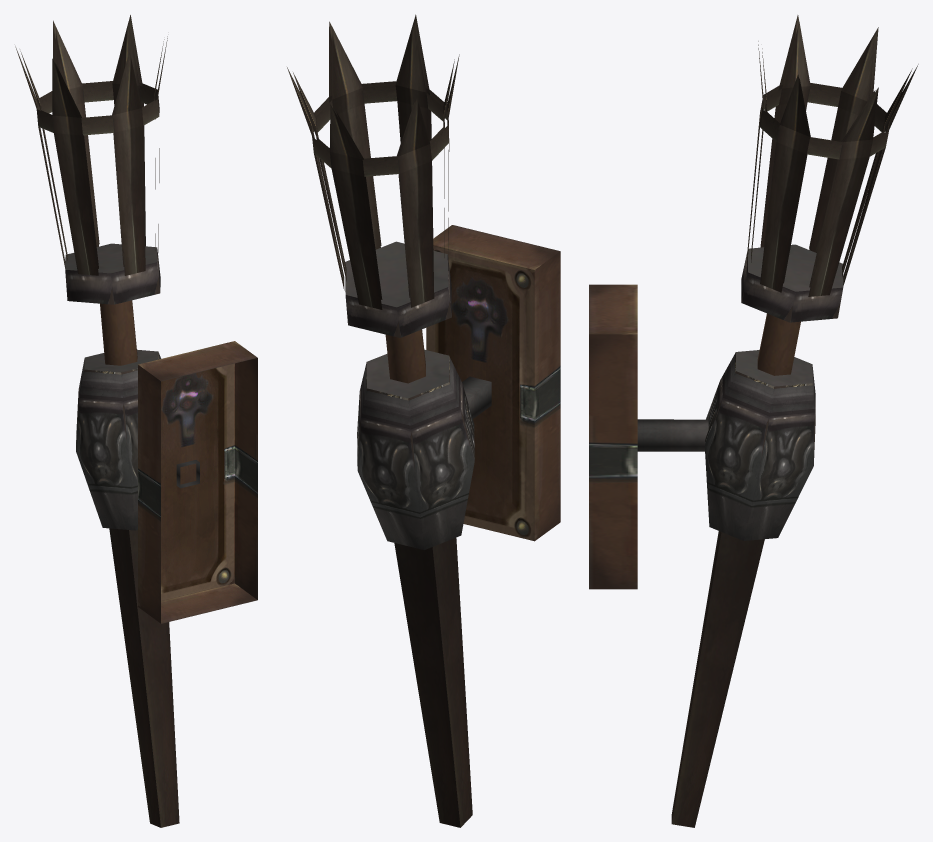
The model's file is torch_light.FBX.
3 views of the same model, side by side, from view 1: azimuth 30°, elevation 25°; view 2: azimuth 150°, elevation 25°; view 3: azimuth 270°, elevation 25° (orthographic). The views are drawn at different scales.
Visible parts, largest first — view 1: torch_light; view 2: torch_light; view 3: torch_light.
Boxes of the visible parts, x1=… form: torch_light: x1=15, y1=15, x2=257, y2=827; torch_light: x1=287, y1=14, x2=560, y2=827; torch_light: x1=589, y1=15, x2=918, y2=827.
Bounding box in the file's own units: 0.3199 × 1.96 × 0.744.
